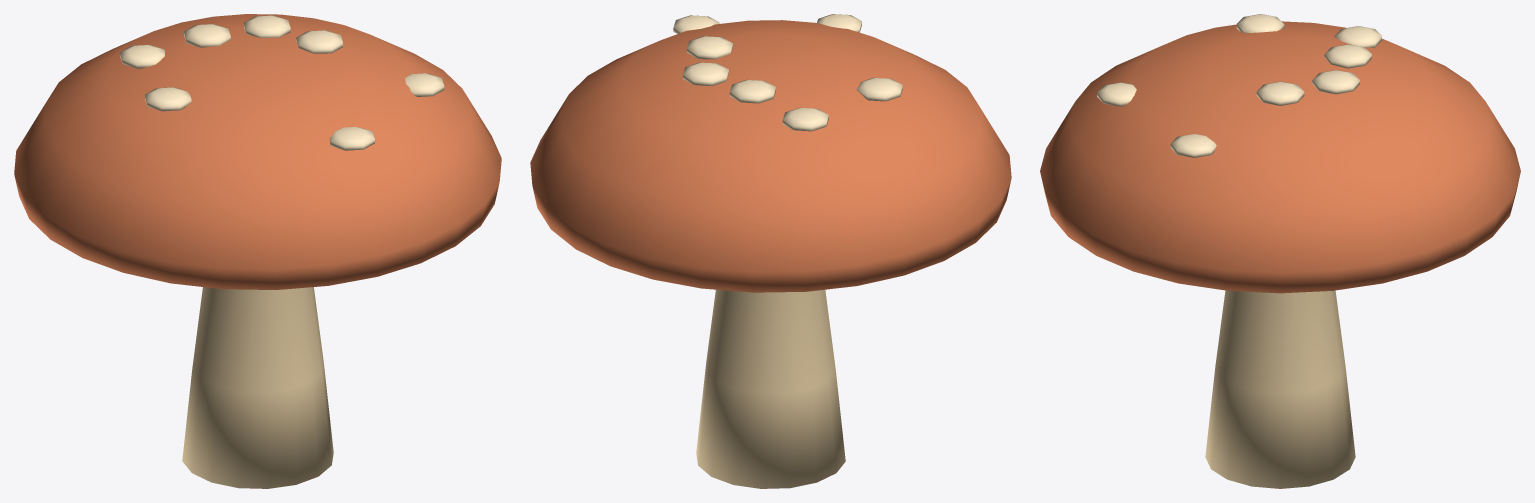
The model's file is mushroom.glb.
3 renders of one model, left to right at view 1: azimuth 30°, elevation 25°; view 2: azimuth 150°, elevation 25°; view 3: azimuth 270°, elevation 25°, orthographic.
Parts seen in each view (by area): view 1: mushroom; view 2: mushroom; view 3: mushroom.
Boxes of the visible parts, left/top/right/bottom form: mushroom: left=14, top=14, right=501, bottom=488; mushroom: left=530, top=14, right=1011, bottom=488; mushroom: left=1040, top=14, right=1520, bottom=488.
Bounding box in the file's own units: 0.96 × 0.8807 × 0.96.
